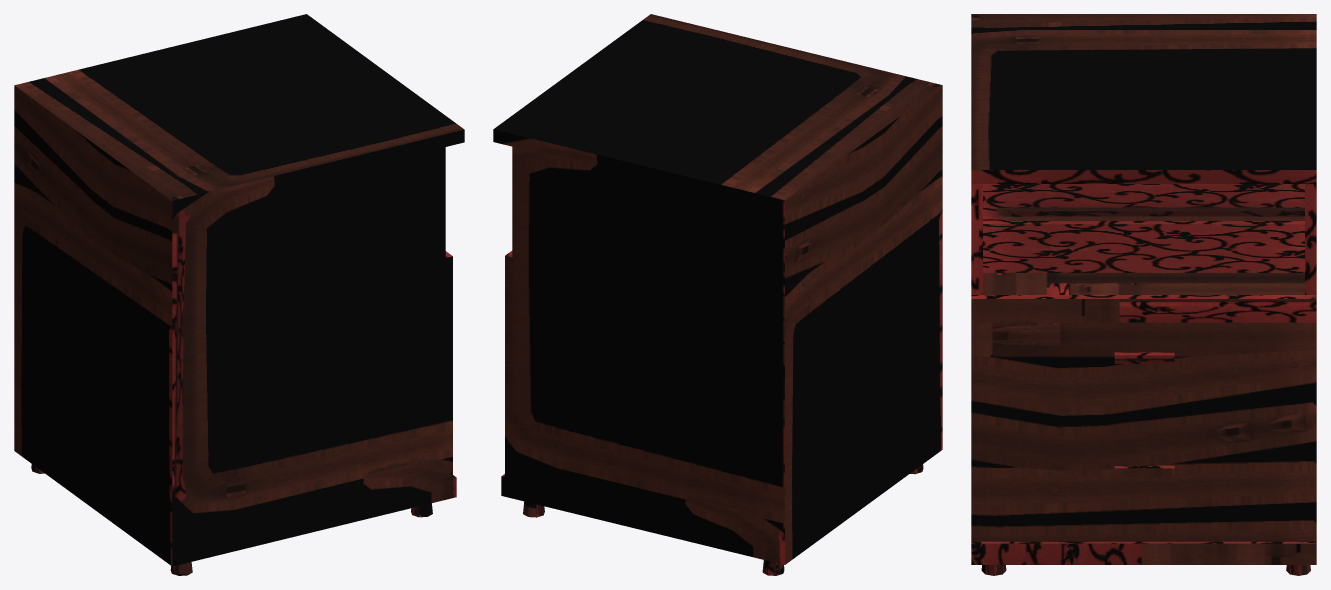
The model's file is Tumba1.fbx.
3 views of the same model, side by side, from view 1: azimuth 30°, elevation 25°; view 2: azimuth 150°, elevation 25°; view 3: azimuth 270°, elevation 25° (orthographic). The views are drawn at different scales.
Parts seen in each view (by area): view 1: Cube; view 2: Cube; view 3: Cube.
Part boxes in pixels (x1,y1,x2,y2): Cube: [14, 14, 464, 575]; Cube: [493, 14, 942, 575]; Cube: [971, 14, 1316, 575].
Size of the model in its own units: 2.14 by 2.67 by 2.
